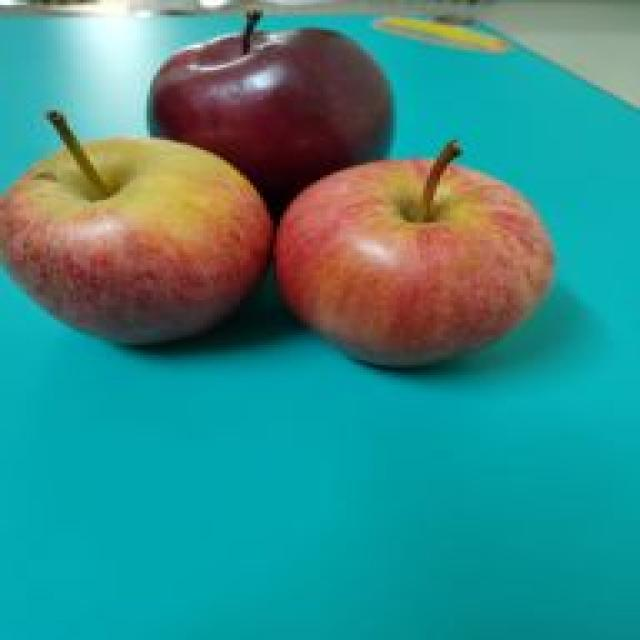Good_Apple: (273, 142, 557, 372), (0, 112, 270, 350), (147, 28, 397, 228)
